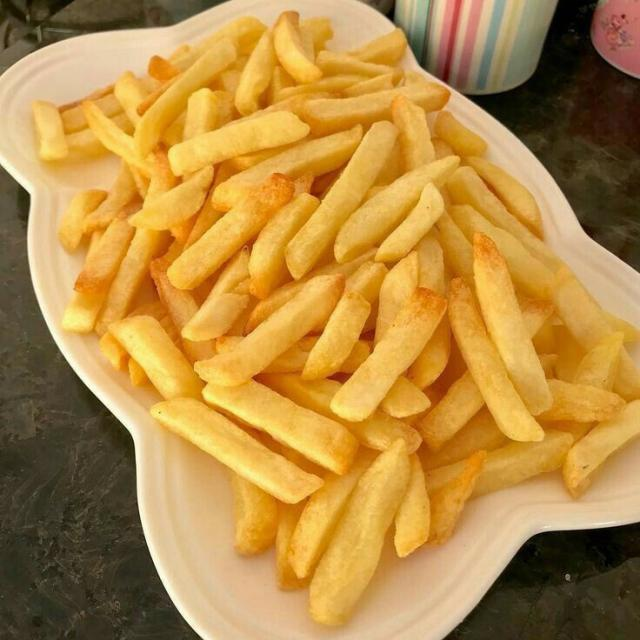potato fries: (34, 12, 639, 624), (310, 441, 410, 624), (151, 398, 322, 503), (287, 122, 397, 279), (196, 276, 344, 385), (449, 279, 544, 440), (332, 288, 446, 421), (203, 380, 358, 473), (474, 234, 553, 415), (168, 174, 293, 288), (334, 157, 459, 261), (213, 126, 362, 211), (260, 375, 420, 453), (134, 40, 236, 157), (447, 167, 561, 269), (247, 250, 374, 332), (289, 454, 371, 579), (448, 206, 553, 298), (169, 112, 309, 175), (109, 316, 203, 399), (249, 194, 319, 299), (96, 229, 166, 334), (563, 400, 639, 496), (306, 82, 449, 133), (474, 430, 573, 496), (466, 157, 543, 237), (302, 293, 371, 379), (420, 408, 506, 471), (429, 451, 486, 545), (376, 183, 444, 261), (417, 372, 484, 451), (130, 167, 213, 230), (74, 210, 134, 293), (83, 101, 150, 175), (554, 268, 612, 348), (230, 472, 278, 555), (83, 162, 138, 233), (375, 253, 418, 343), (394, 454, 430, 557), (151, 255, 198, 331), (234, 30, 276, 115), (539, 380, 625, 421), (274, 12, 322, 83), (392, 95, 435, 170), (182, 293, 249, 340), (408, 316, 451, 389), (58, 190, 107, 251), (574, 332, 623, 391), (436, 212, 473, 281), (276, 502, 305, 590), (316, 51, 400, 79), (434, 111, 486, 156), (277, 74, 366, 100), (183, 88, 226, 139), (32, 100, 68, 160), (380, 376, 430, 418), (349, 29, 406, 64), (264, 337, 318, 373), (414, 233, 445, 294), (62, 291, 106, 333), (114, 72, 147, 125), (346, 261, 387, 303), (86, 83, 123, 118), (342, 74, 393, 97), (300, 17, 333, 52), (267, 66, 294, 105), (147, 55, 179, 83), (432, 138, 455, 159)
